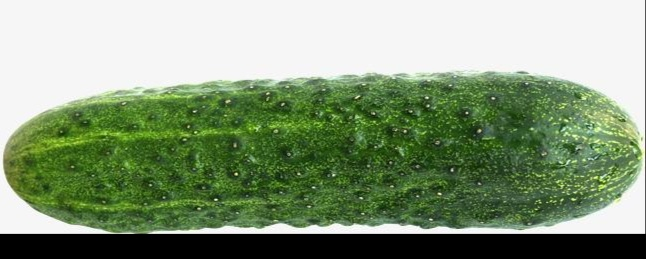cucumber: (4, 68, 644, 231)
